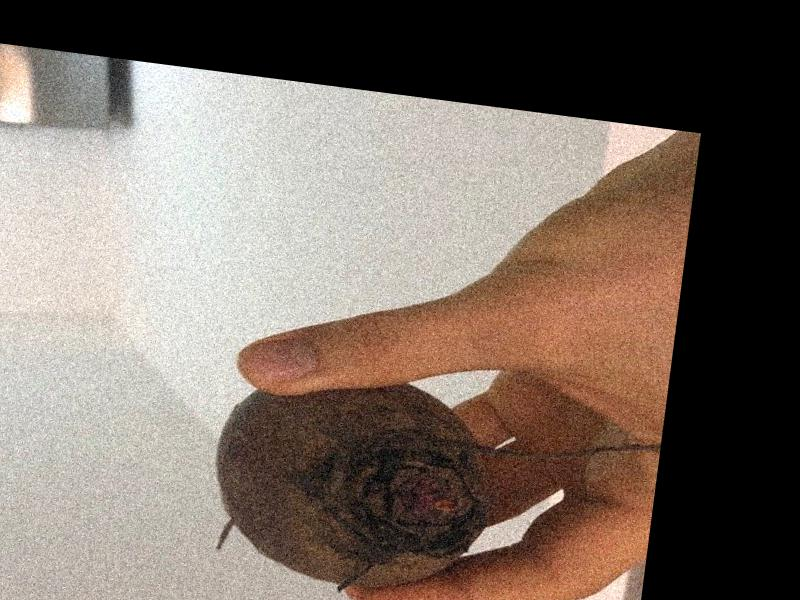Beet: (198, 357, 661, 600)
